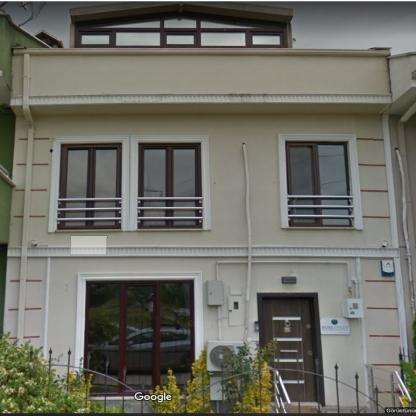door: (258, 293, 320, 401)
window: (85, 280, 194, 391), (76, 14, 287, 47), (286, 140, 351, 226), (58, 142, 121, 230), (138, 142, 201, 228)
